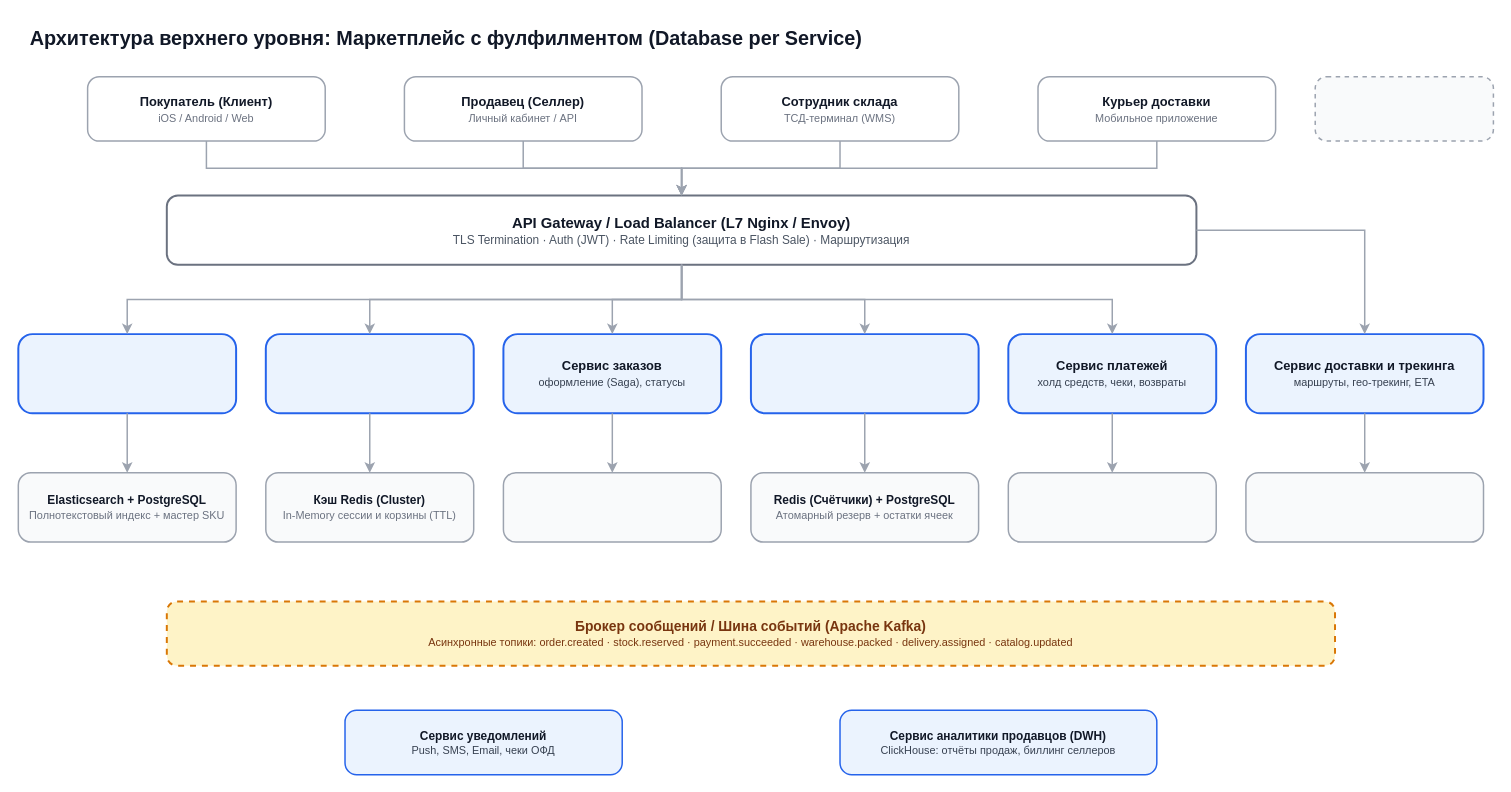
Image size: 1511x792. Some labels were removed from this diagram. Each missing label, with the centre of its shape:
"CDN + S3 (Медиа) Фото товаров, статика" belongs at point (1404, 108).
"SQL: Заказы (PostgreSQL) Шардирование по buyer_id + Outbox" belongs at point (612, 507).
"SQL: Транзакции (PostgreSQL) Строгий ACID + Idempotency Keys" belongs at point (1112, 507).
"Гео-индекс (Redis) + TimeSeries Текущие координаты (TTL) + треки" belongs at point (1364, 507).
"Сервис каталога и поиска карточки SKU, фильтры, цены" belongs at point (127, 373).
"Сервис корзины состав корзины, промокоды" belongs at point (369, 373).
"Сервис склада и резерва остатки, Flash-резерв, сборка" belongs at point (864, 373).
